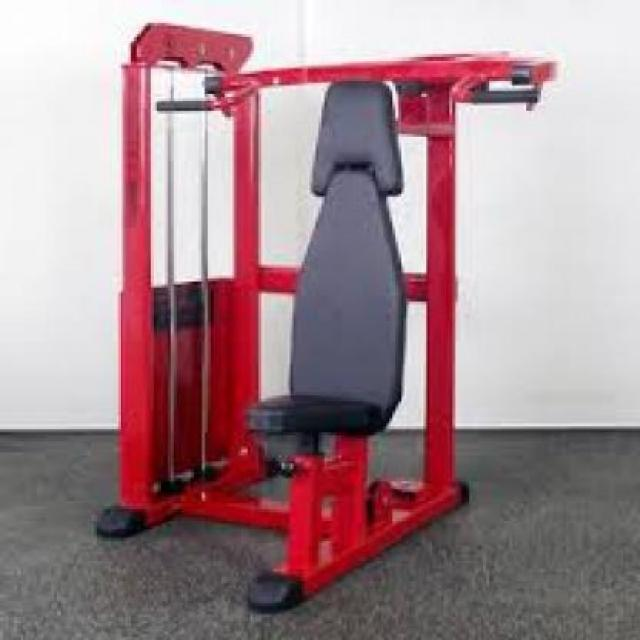shoulder press machine: (80, 9, 566, 629)
